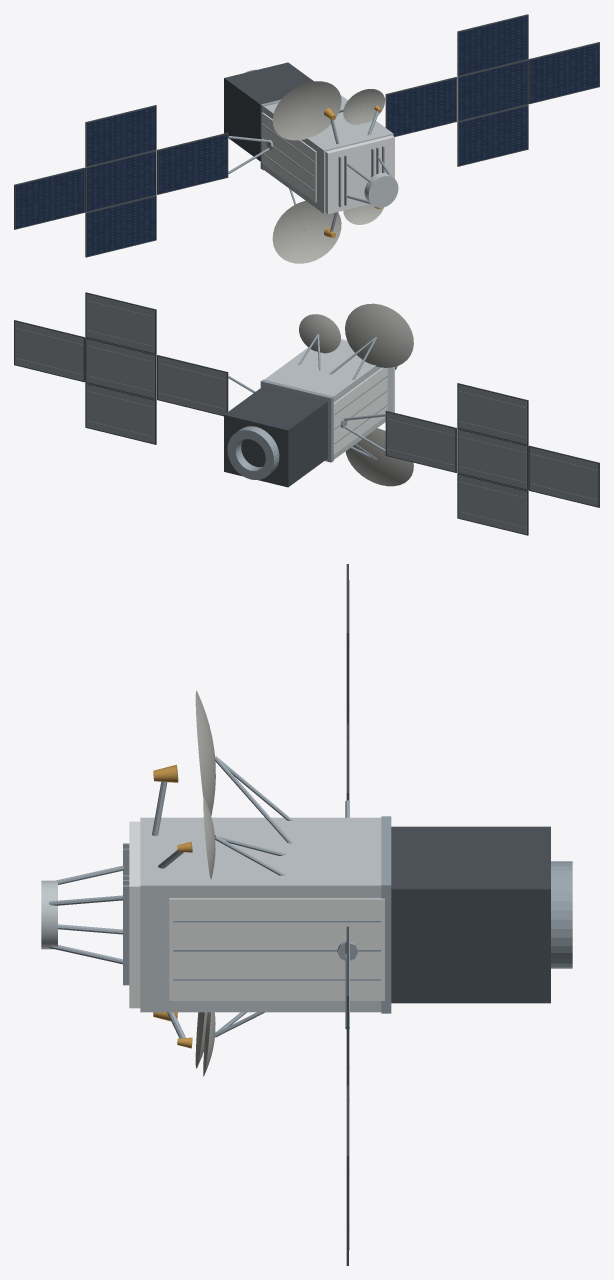
Rendered from ref-ssl-1300e-38551.glb.
3 renders of one model, top to bottom at view 1: azimuth 30°, elevation 25°; view 2: azimuth 150°, elevation 25°; view 3: azimuth 270°, elevation 25°, orthographic. The views are drawn at different scales.
Parts seen in each view (by area): view 1: Solar cell panel (×10), Communications reflector (×4), Solar panel frame (×10), Service module, Earth-facing deck, Payload module, Radiator face, Antenna tower platform; view 2: Rear array substrate (×10), Service module, Communications reflector (×3), Solar panel frame (×10), Payload module, Radiator face, Launch adapter ring, Module interface; view 3: Service module, Payload module, Radiator face, Launch adapter ring, Earth-facing deck, Module interface, Communications reflector, Antenna tower platform.
Boxes of the visible parts, x1,y1,x2,y2 form: Solar cell panel (×10): (15, 16, 598, 256); Communications reflector (×4): (272, 81, 384, 263); Solar panel frame (×10): (14, 14, 599, 257); Service module: (224, 62, 313, 161); Earth-facing deck: (325, 135, 394, 214); Payload module: (263, 95, 393, 213); Radiator face: (261, 112, 316, 202); Antenna tower platform: (364, 173, 398, 207); Rear array substrate (×10): (15, 294, 598, 534); Service module: (224, 385, 327, 487); Communications reflector (×3): (299, 303, 413, 486); Solar panel frame (×10): (14, 292, 599, 535); Payload module: (264, 340, 393, 459); Radiator face: (333, 367, 387, 454); Launch adapter ring: (227, 426, 279, 479); Module interface: (260, 379, 333, 462); Service module: (391, 826, 550, 1003); Payload module: (140, 817, 381, 1012); Radiator face: (169, 898, 384, 1000); Launch adapter ring: (551, 861, 572, 968); Earth-facing deck: (129, 821, 140, 1008); Module interface: (381, 816, 391, 1013); Communications reflector: (195, 690, 215, 815); Antenna tower platform: (41, 880, 57, 949).
Size of the model in its own units: 26.07 by 7.68 by 10.24.
Materials: 8 (1 with a texture image).
